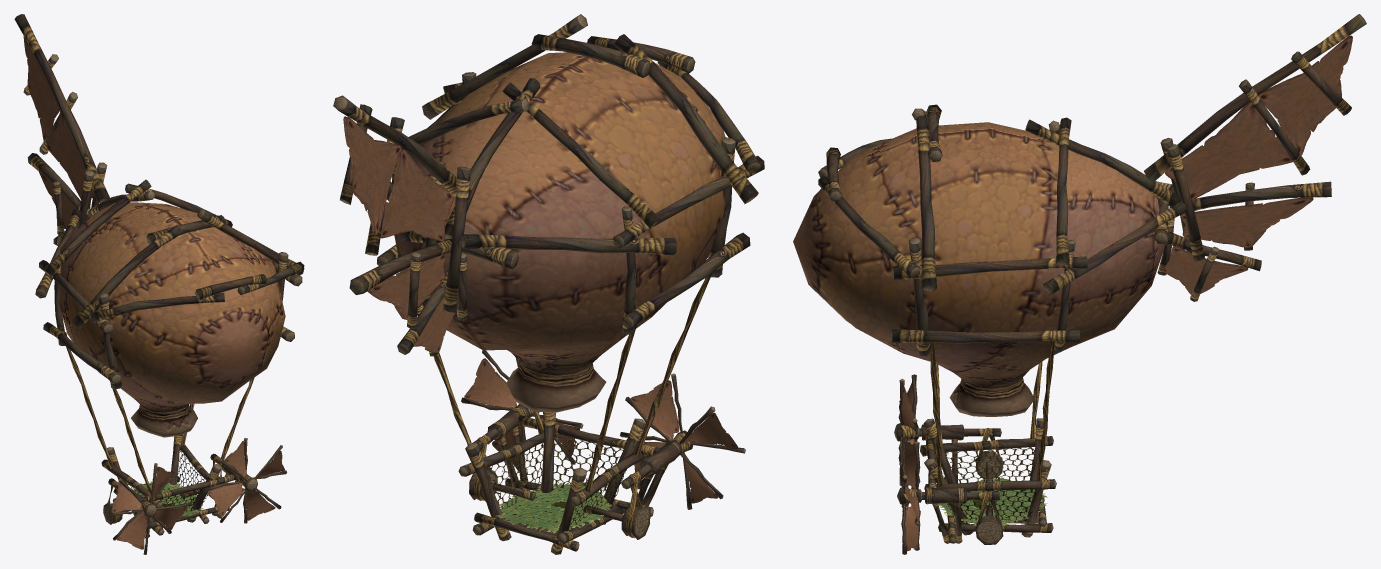
The model's file is Blimp.obj.
3 views of the same model, side by side, from view 1: azimuth 30°, elevation 25°; view 2: azimuth 150°, elevation 25°; view 3: azimuth 270°, elevation 25° (orthographic). The views are drawn at different scales.
Parts seen in each view (by area): view 1: mesh_196, mesh_195, mesh_197, mesh_194, mesh_193, mesh_192, mesh_199, mesh_198; view 2: mesh_196, mesh_195, mesh_197, mesh_192, mesh_193, mesh_198, mesh_194, mesh_199; view 3: mesh_196, mesh_195, mesh_197, mesh_193, mesh_192, mesh_199, mesh_198, mesh_194.
Part boxes in pixels (left/top/right/bottom): mesh_196: left=59, top=202, right=285, bottom=437; mesh_195: left=14, top=14, right=304, bottom=537; mesh_197: left=23, top=36, right=284, bottom=549; mesh_194: left=108, top=438, right=286, bottom=554; mesh_193: left=35, top=54, right=302, bottom=554; mesh_192: left=63, top=332, right=254, bottom=523; mesh_199: left=123, top=450, right=211, bottom=519; mesh_198: left=133, top=481, right=203, bottom=516; mesh_196: left=396, top=52, right=726, bottom=412; mesh_195: left=339, top=17, right=764, bottom=554; mesh_197: left=343, top=116, right=738, bottom=503; mesh_192: left=433, top=252, right=714, bottom=538; mesh_193: left=333, top=14, right=761, bottom=551; mesh_198: left=496, top=482, right=611, bottom=533; mesh_194: left=461, top=350, right=744, bottom=535; mesh_199: left=485, top=433, right=626, bottom=528; mesh_196: left=793, top=122, right=1165, bottom=416; mesh_195: left=818, top=14, right=1366, bottom=543; mesh_197: left=902, top=35, right=1352, bottom=551; mesh_193: left=818, top=14, right=1366, bottom=554; mesh_192: left=930, top=329, right=1056, bottom=530; mesh_199: left=934, top=446, right=1037, bottom=522; mesh_198: left=938, top=477, right=1047, bottom=525; mesh_194: left=898, top=374, right=1039, bottom=553.
Size of the model in its own units: 10 by 16.81 by 17.14.
Materials: 8 (8 with a texture image).
